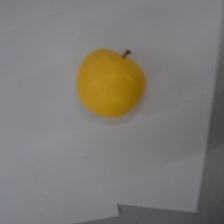yellow: (74, 43, 150, 123)
